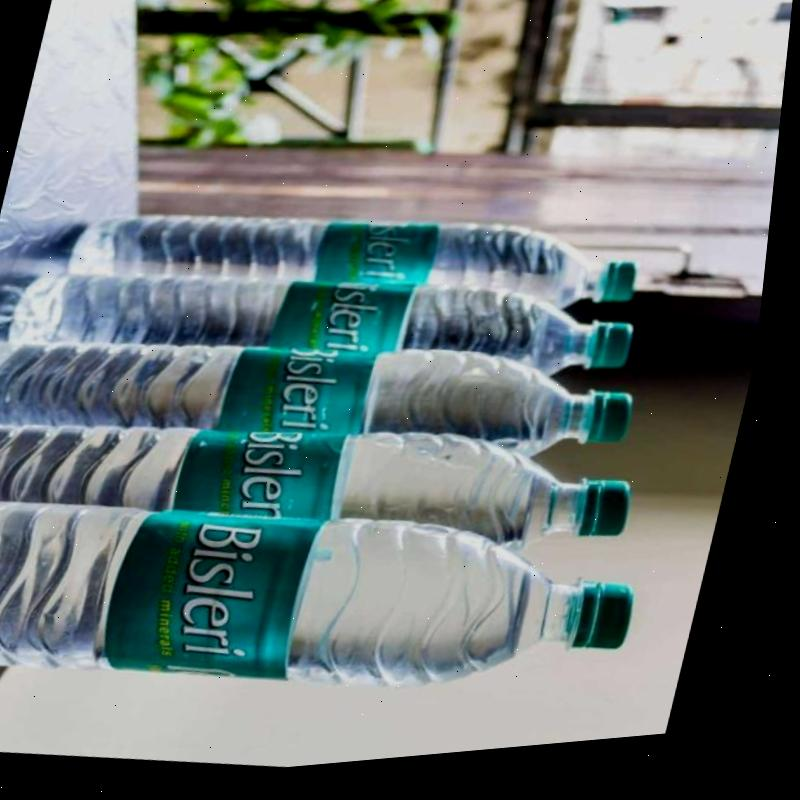botella: (0, 441, 675, 758), (0, 355, 663, 615), (0, 278, 658, 522), (3, 224, 658, 438), (60, 163, 657, 364)
